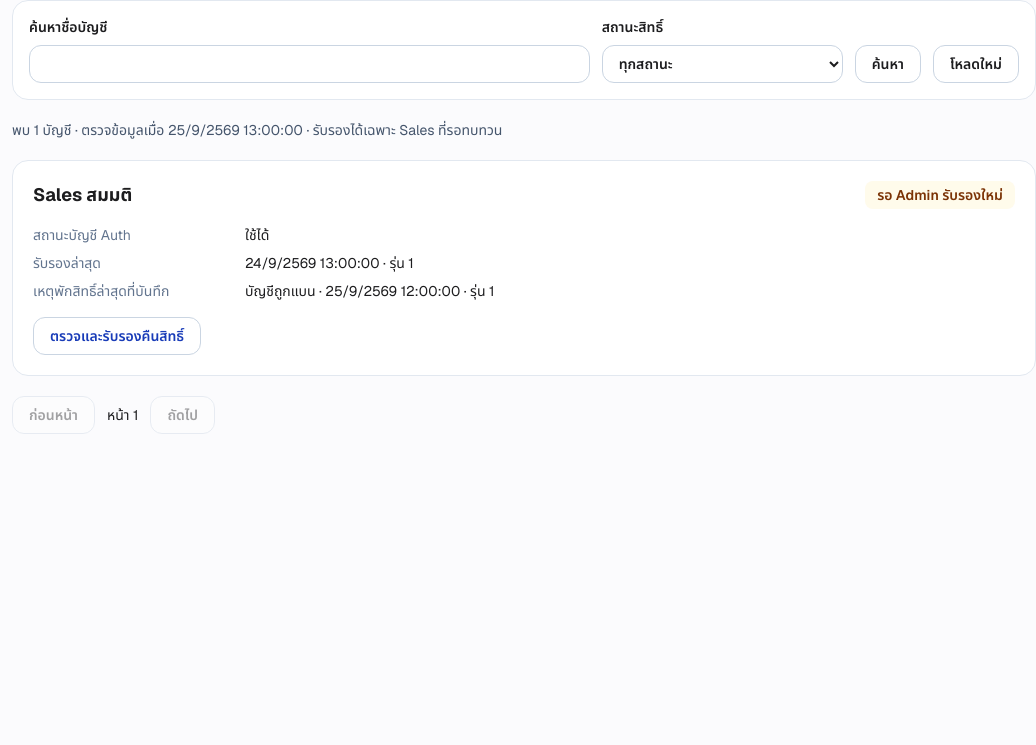
Sales restoration presentation › requires reason and human attestation before submitting
Click the button "ตรวจและรับรองคืนสิทธิ์": (117, 336) [33,317,201,355]
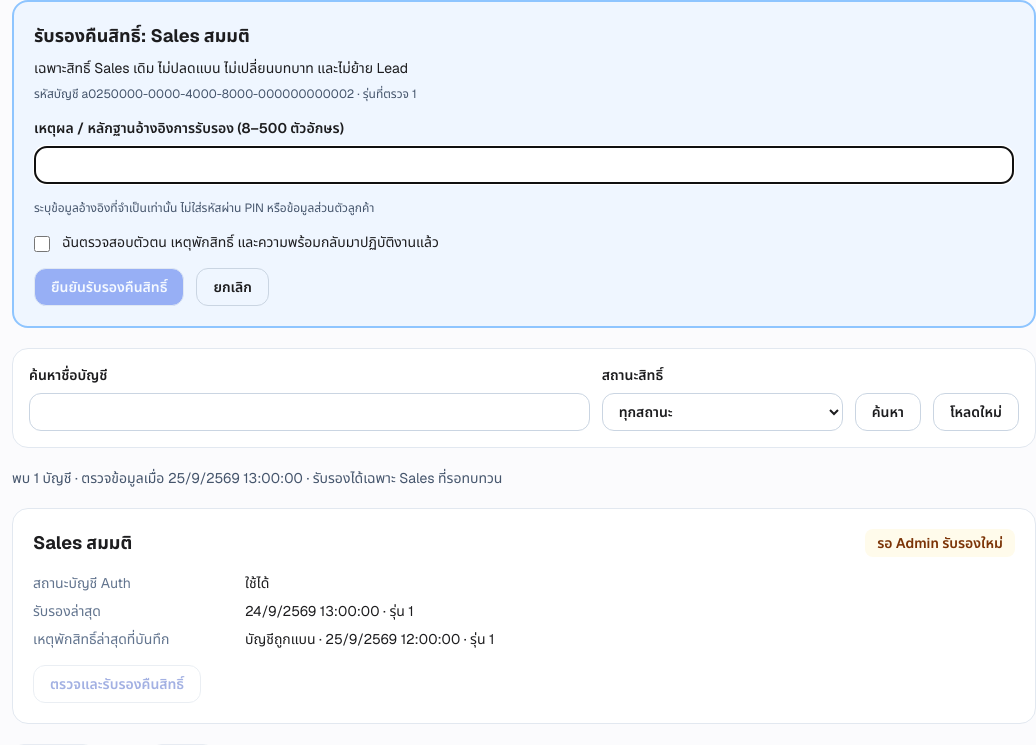
Result: the button "ยืนยันรับรองคืนสิทธิ์" is disabled at [34,268,184,306]
In the field labelled "เหตุผล / หลักฐานอ้างอิงการรับรอง (8–500 ตัวอักษร)": (524, 165) [34,146,1014,184], type "ตรวจสอบตัวตนและความพร้อมแล้ว"
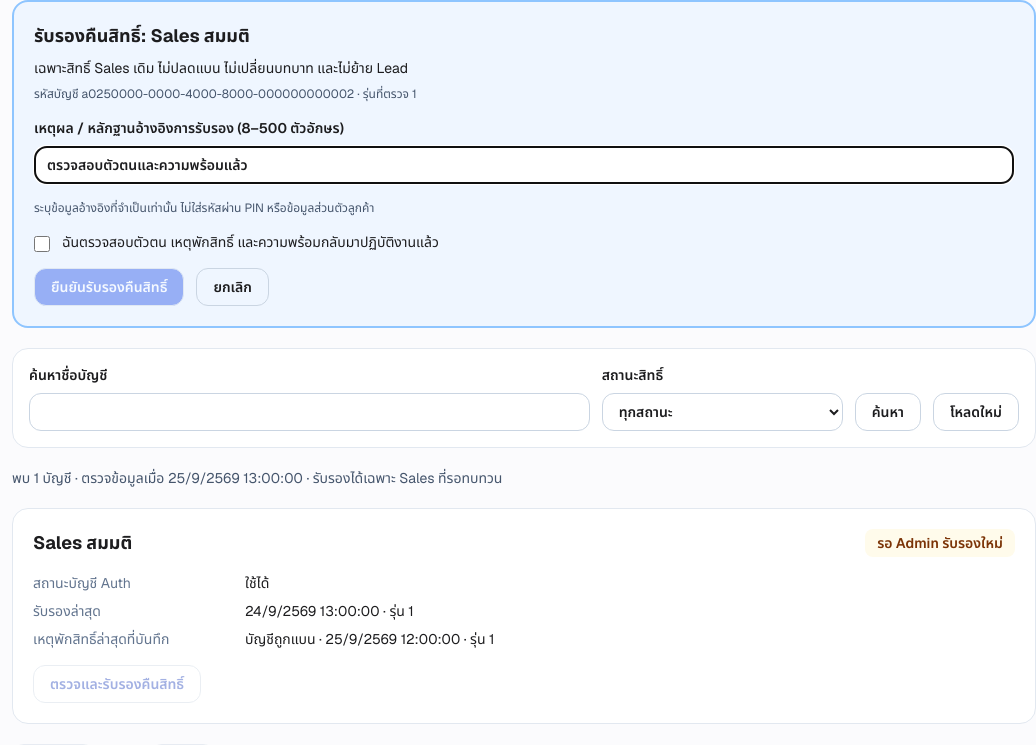
Click the checkbox: (42, 244) [34,236,50,252]
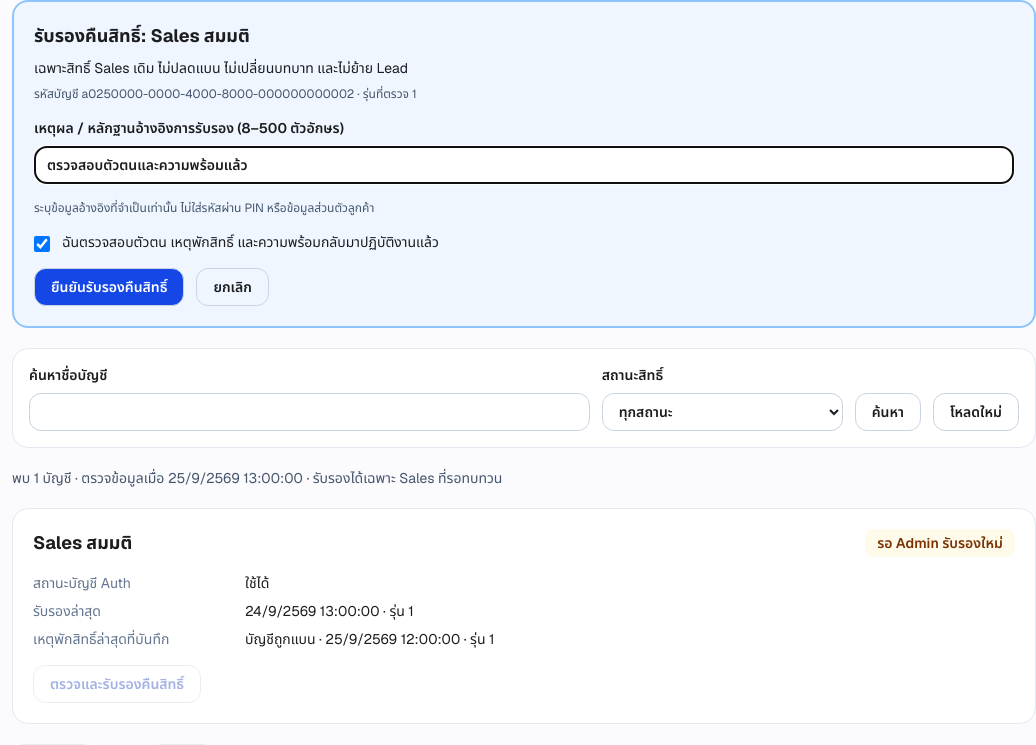
Click the button "ยืนยันรับรองคืนสิทธิ์": (109, 287) [34,268,184,306]
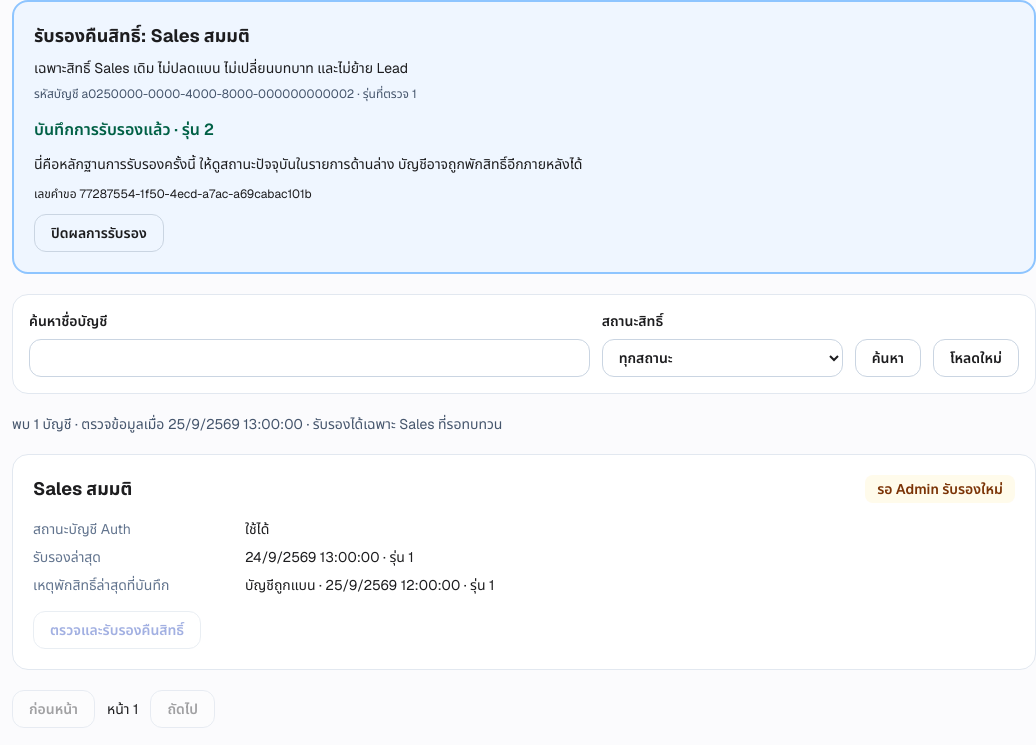
Result: the text "บันทึกการรับรองแล้ว · รุ่น 2" is shown at [34,119,214,140]
Result: the text "ให้ดูสถานะปัจจุบัน" is shown at [34,155,582,173]
